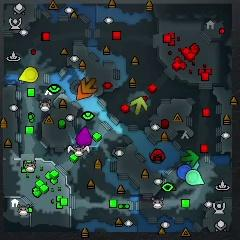p1: (178, 165, 191, 180)
p2: (187, 169, 204, 186)
p3: (76, 126, 93, 147)
p4: (19, 67, 38, 83)
p5: (77, 84, 92, 100)
x2: (131, 96, 148, 115)
x3: (186, 161, 200, 170)
x4: (181, 149, 199, 167)
x5: (81, 78, 97, 94)
